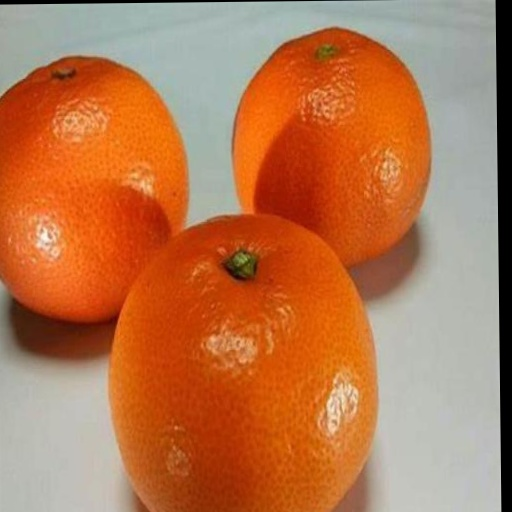fruit: (109, 216, 376, 512), (0, 57, 186, 321), (233, 29, 430, 265)
